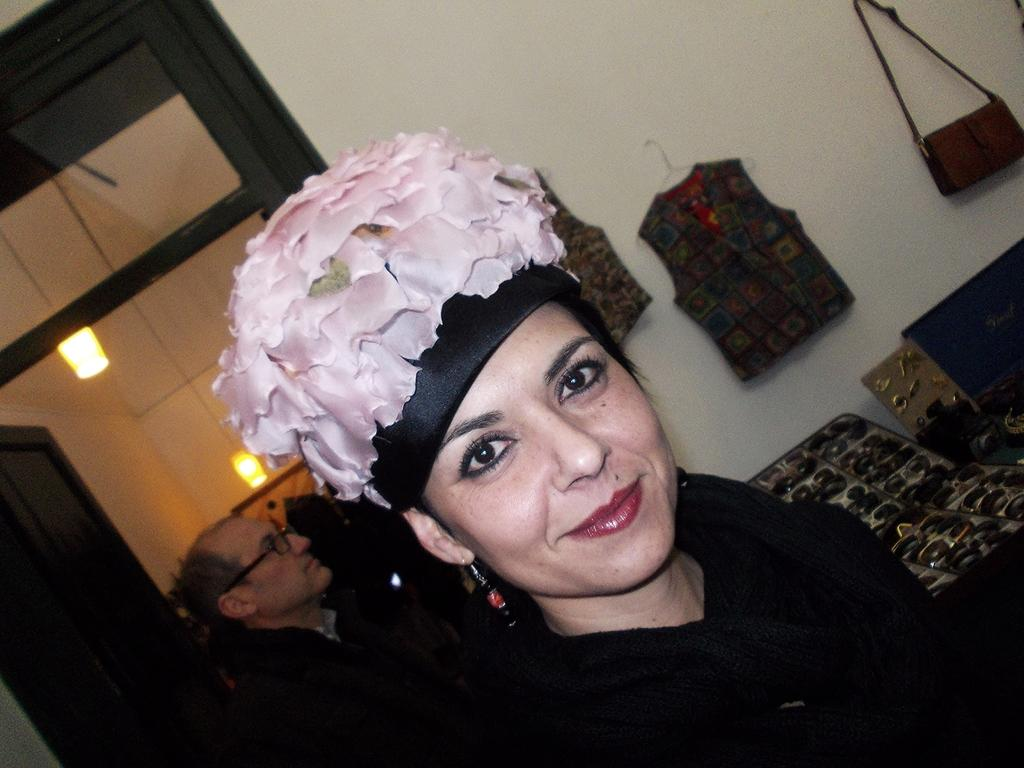Hat: (216, 127, 585, 518)
